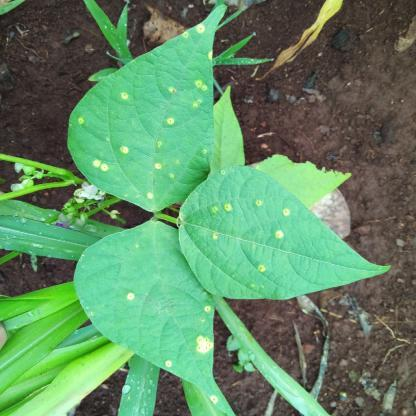Beans_Rust: (70, 12, 227, 214), (179, 164, 391, 302), (76, 219, 228, 409)
